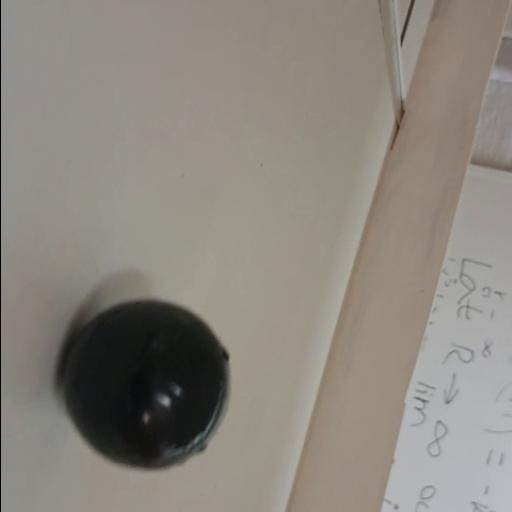dead: (58, 297, 234, 469)
